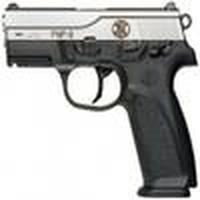gun: (1, 2, 200, 197)
